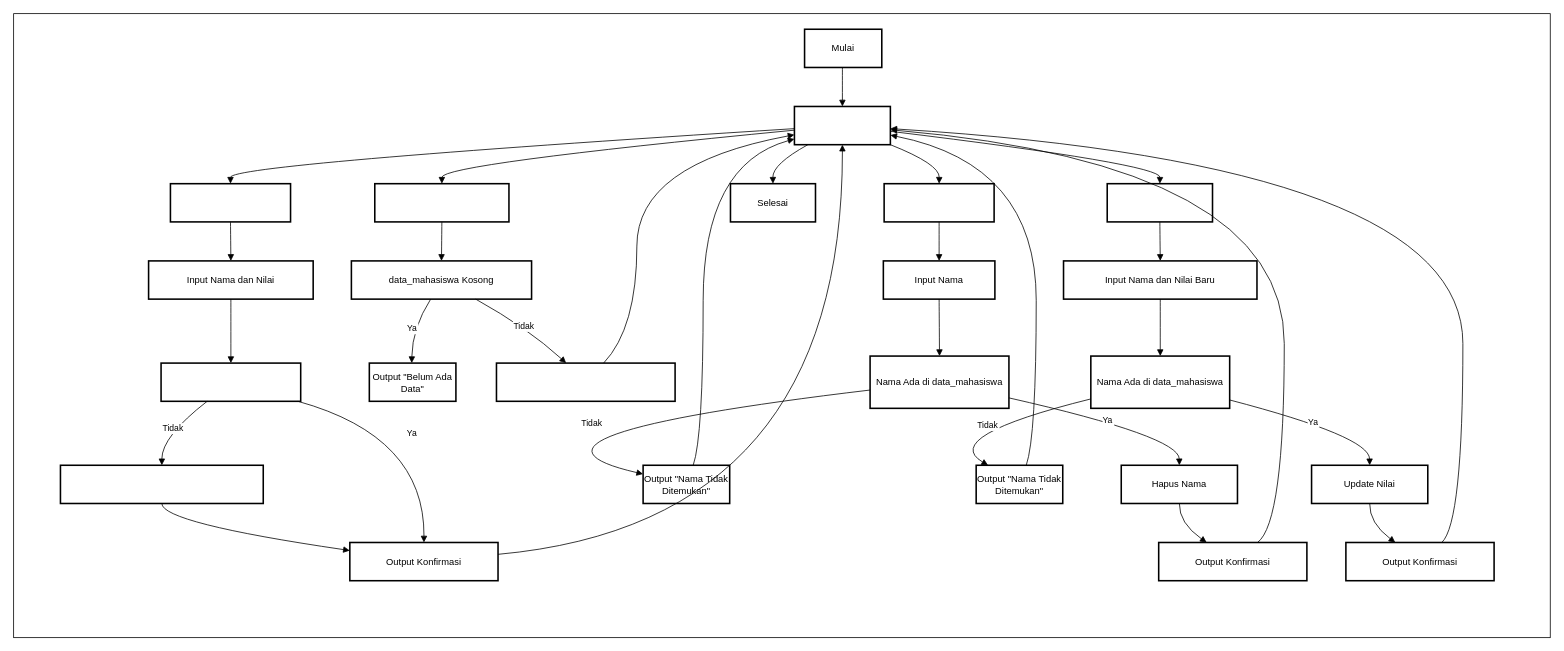
Image size: 1564x651. Some labels were removed from this diagram. Each missing label, with the centre of its shape:
Hapus Data: the point at 938,202
Iterasi dan Output Data: the point at 585,382
Nama Sudah Ada?: the point at 230,382
Pilih Aksi: the point at 842,125
Tambah Data: the point at 230,202
Tambah ke data_mahasiswa: the point at 161,484
Tampilkan Data: the point at 441,202
Ubah Data: the point at 1159,202
